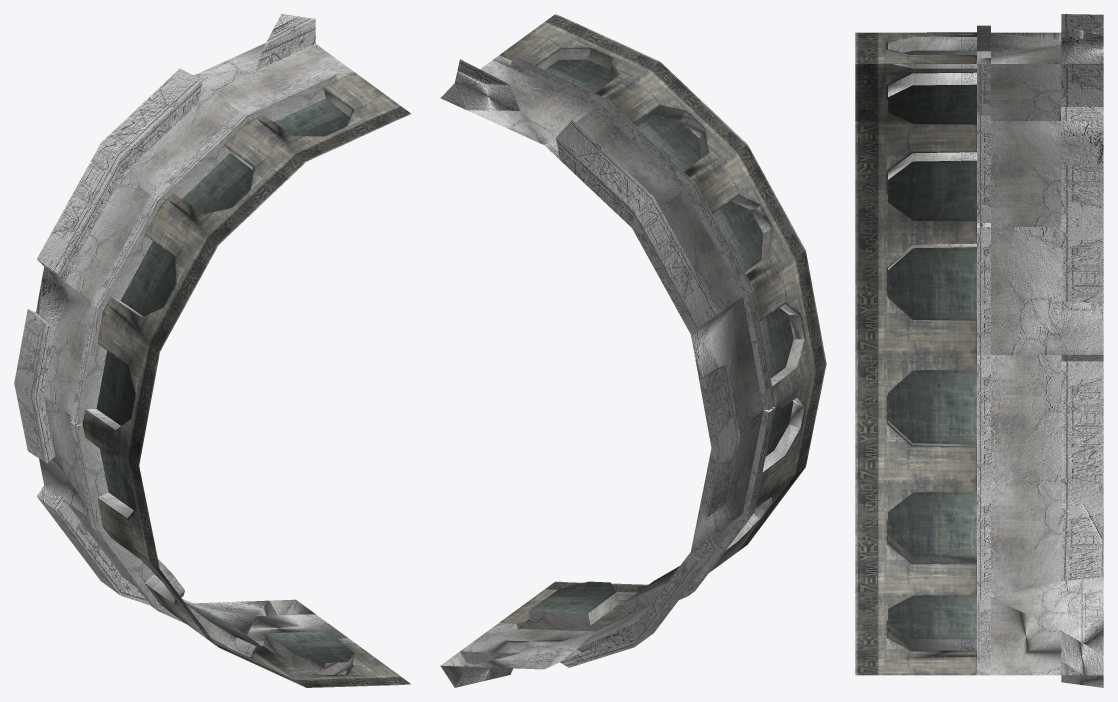
Rendered from rv_mod_cit_ruin_rotunda.obj.
3 renders of one model, left to right at view 1: azimuth 30°, elevation 25°; view 2: azimuth 150°, elevation 25°; view 3: azimuth 270°, elevation 25°, orthographic. The views are drawn at different scales.
Visible parts, largest first — view 1: rv_mod_cit_ruin_rotunda; view 2: rv_mod_cit_ruin_rotunda; view 3: rv_mod_cit_ruin_rotunda.
Part boxes in pixels (x1,y1,x2,y2): rv_mod_cit_ruin_rotunda: (14,14,411,687); rv_mod_cit_ruin_rotunda: (440,14,826,687); rv_mod_cit_ruin_rotunda: (855,14,1103,687).
Size of the model in its own units: 24.81 by 51.67 by 17.66.
Materials: 2 (2 with a texture image).
